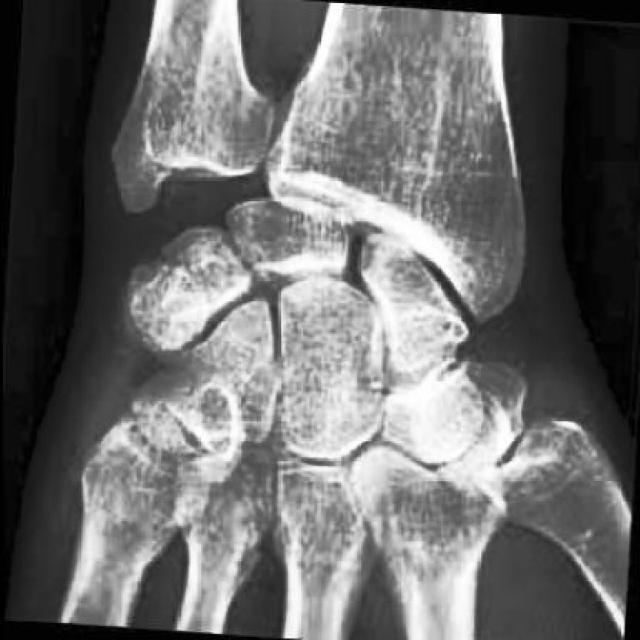Fracture: (142, 374, 247, 476)
